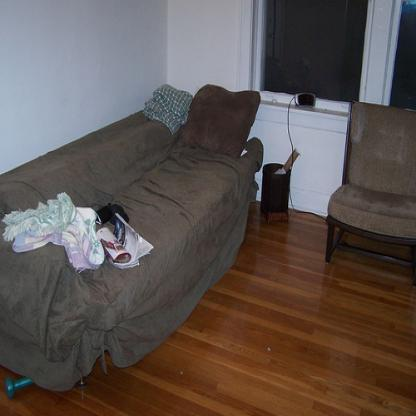chair: (325, 100, 415, 286)
sofa: (0, 83, 263, 395)
